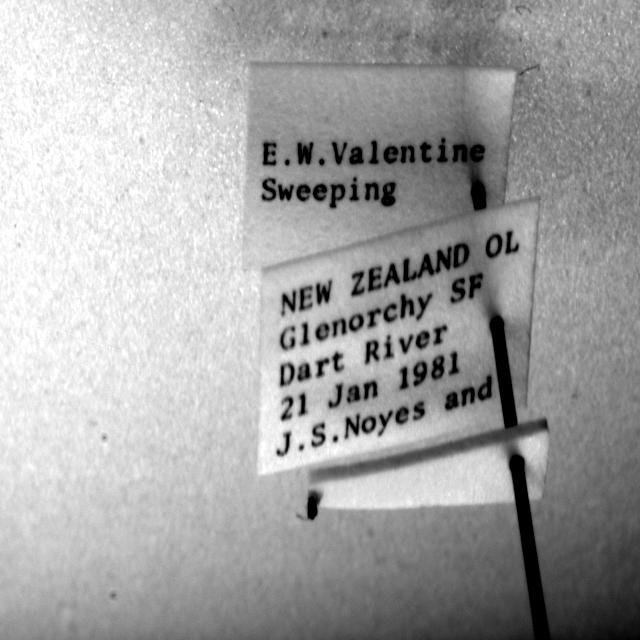typed_label: (258, 201, 539, 474), (244, 64, 516, 268)
